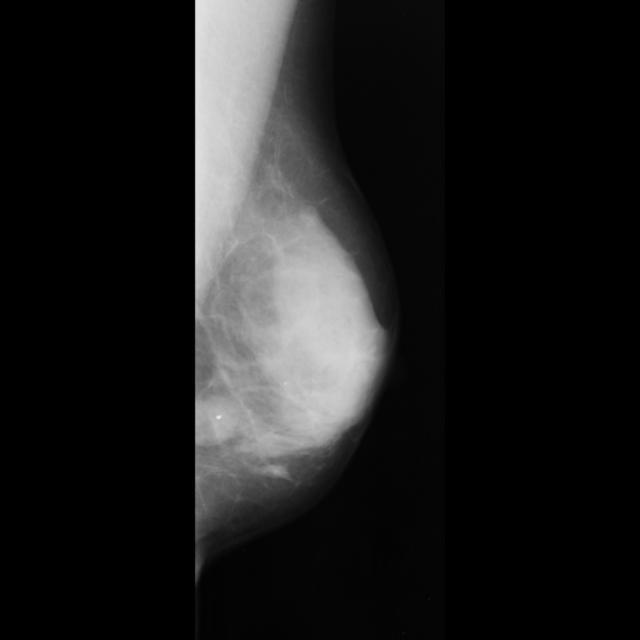CIRC: (183, 391, 239, 448)
